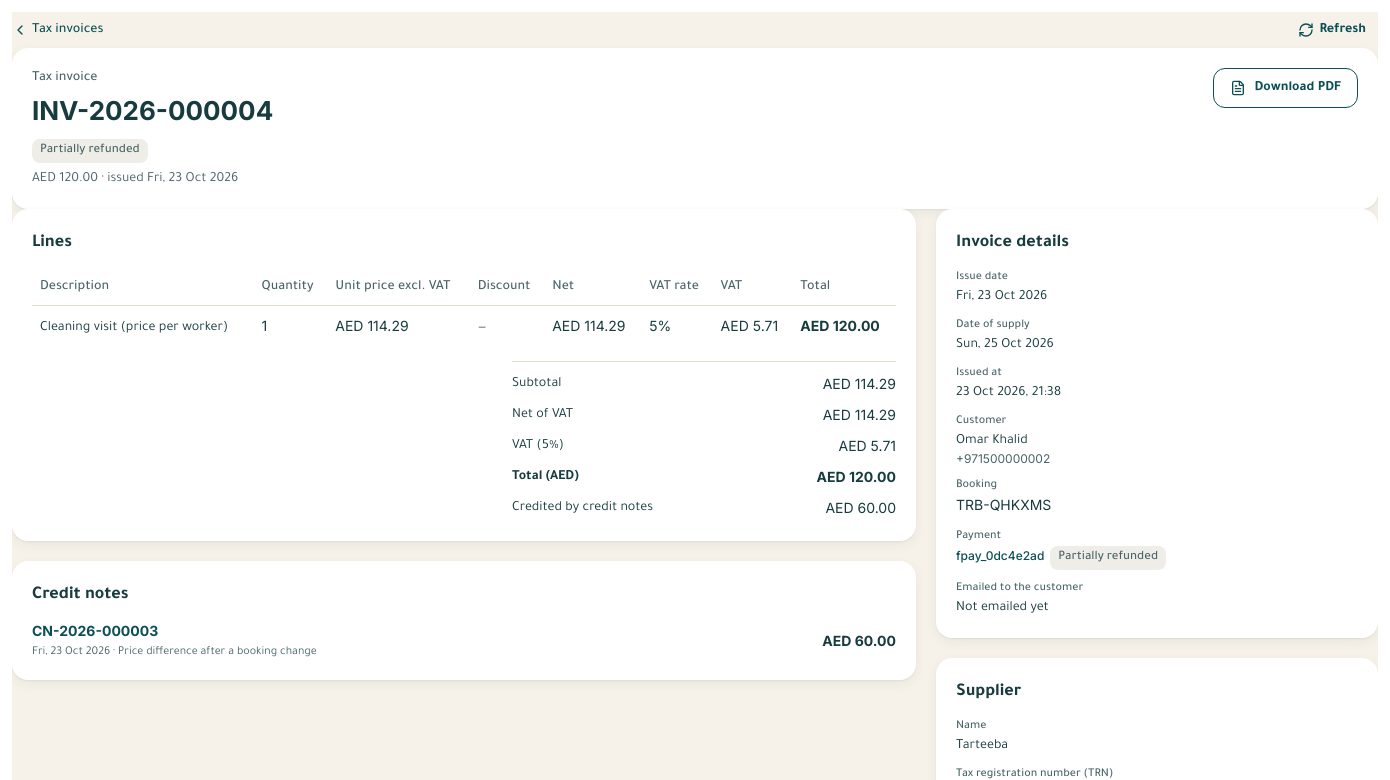
InvoiceDetailScreen › says when the PDF can't be made right now
Click the button with aria-label "Download PDF of INV-2026-000004".
click(1286, 88)  # box x1=1213 y1=68 x2=1358 y2=108
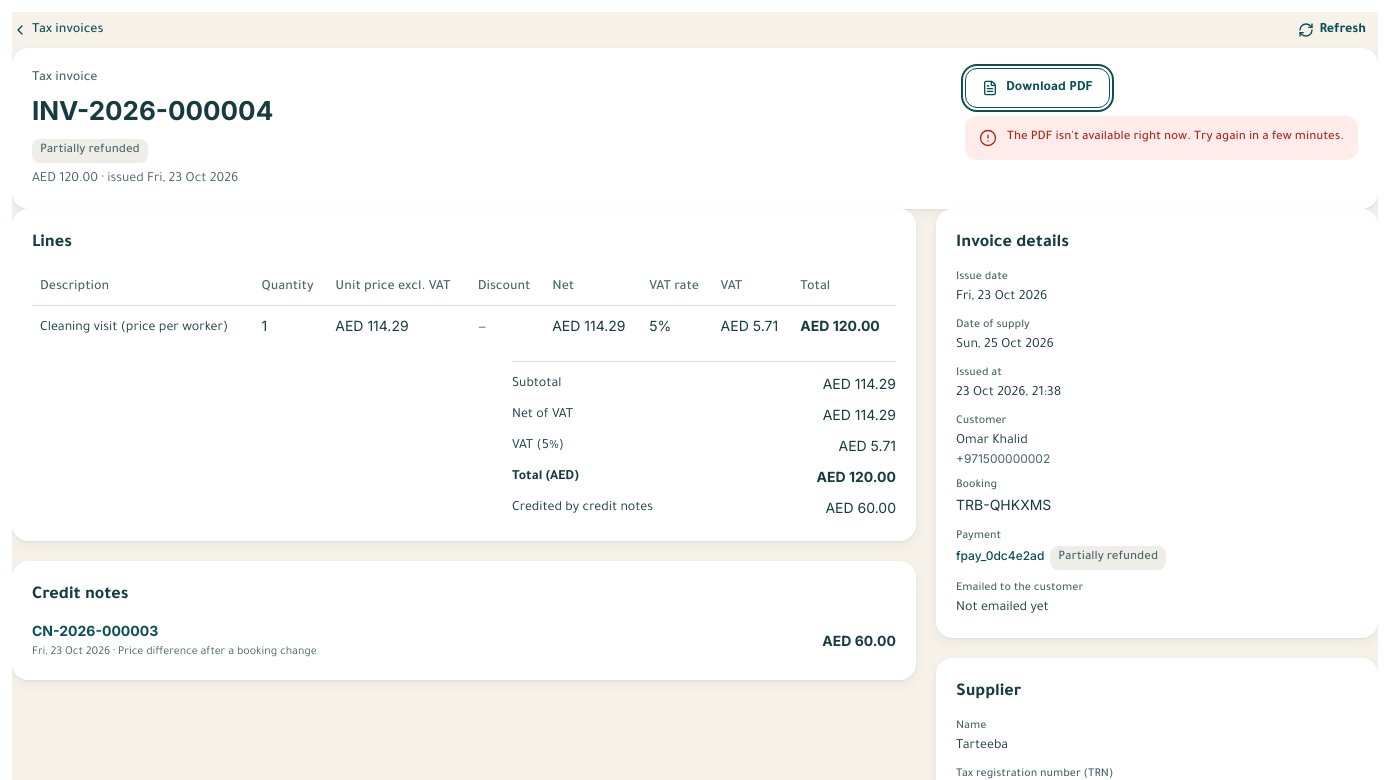
Expected: the text "The PDF isn't available right now. Try again in a few minutes." is shown, x1=1007 y1=128 x2=1344 y2=148
